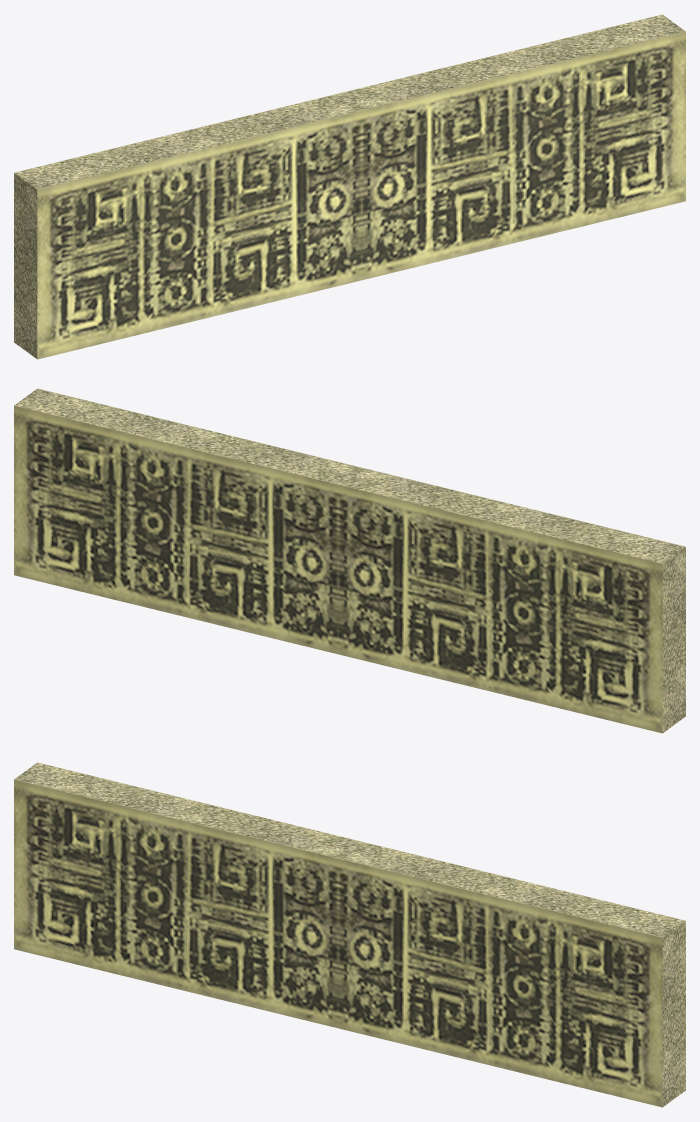
The model's file is jungle_border_plank.gltf.
3 views of the same model, one above another, from view 1: azimuth 30°, elevation 25°; view 2: azimuth 150°, elevation 25°; view 3: azimuth 330°, elevation 25° (orthographic).
Visible parts, largest first — view 1: jungle_border_plank_glb; view 2: jungle_border_plank_glb; view 3: jungle_border_plank_glb.
Part boxes in pixels (x1,y1,x2,y2): jungle_border_plank_glb: [14, 14, 685, 359]; jungle_border_plank_glb: [14, 388, 685, 733]; jungle_border_plank_glb: [14, 762, 685, 1107].
Size of what is drawn, in the model's own units: 4 by 1 by 0.25.
Materials: 1 (1 with a texture image).
